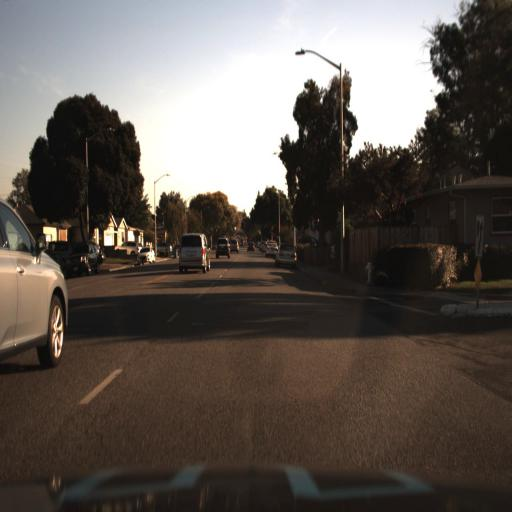car: (1, 202, 72, 392), (176, 229, 213, 280), (275, 240, 296, 268), (120, 238, 142, 256), (215, 236, 230, 261), (138, 246, 154, 264), (247, 240, 258, 252)
